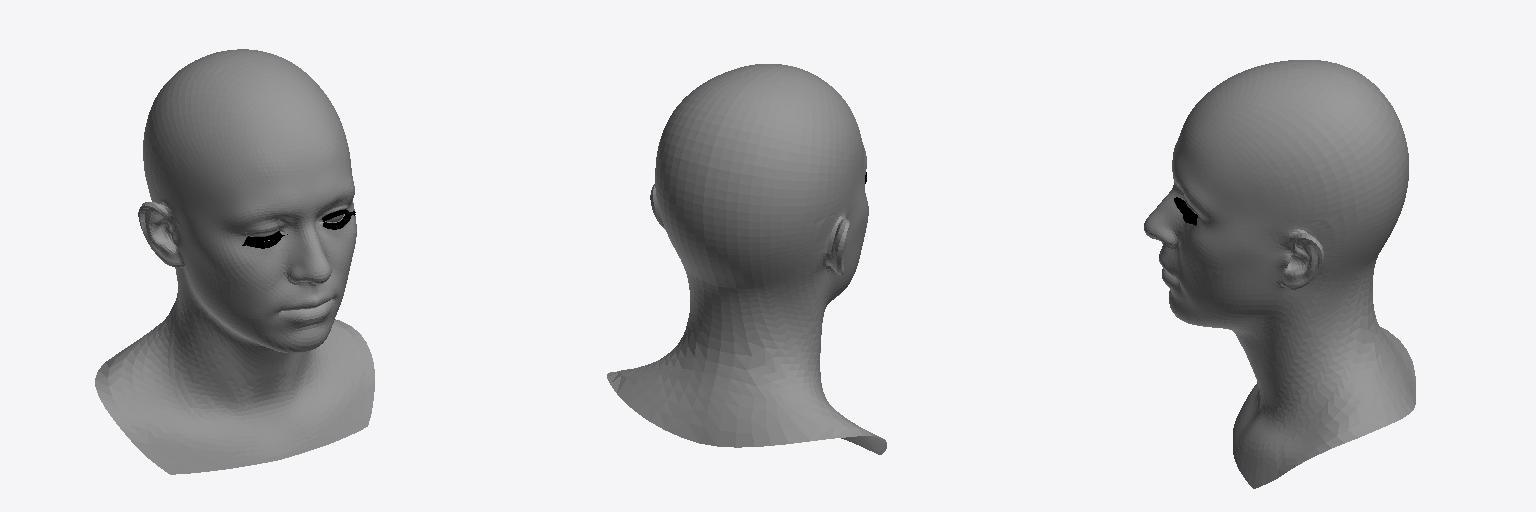
The model's file is eyeLookDown_R.obj.
3 views of the same model, side by side, from view 1: azimuth 30°, elevation 25°; view 2: azimuth 150°, elevation 25°; view 3: azimuth 270°, elevation 25° (orthographic).
Bounding box in the file's own units: 24.83 × 33.81 × 22.32.